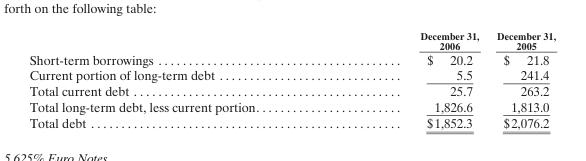table: (28, 28, 555, 130)
table column: (28, 28, 338, 130), (338, 28, 487, 130), (487, 28, 555, 130)
table column header: (28, 28, 555, 51)
table row: (28, 28, 555, 51), (28, 66, 555, 82), (28, 82, 555, 98), (28, 98, 555, 114), (28, 114, 555, 130), (28, 51, 555, 66)
